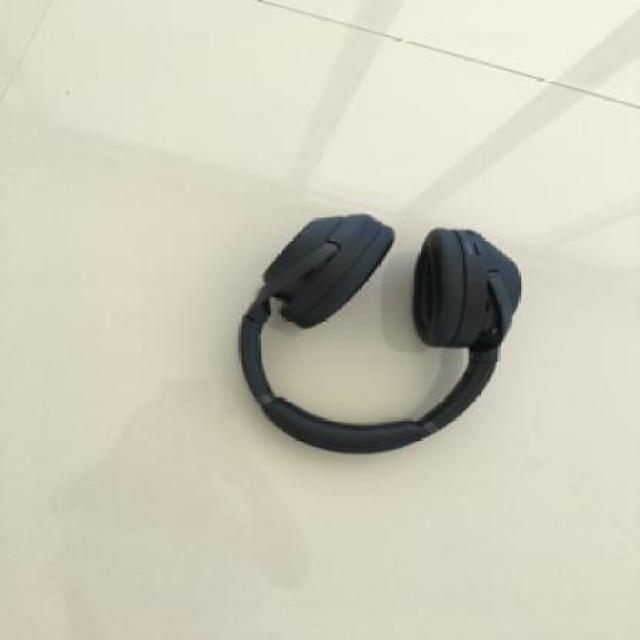earphone: (170, 142, 557, 502)
